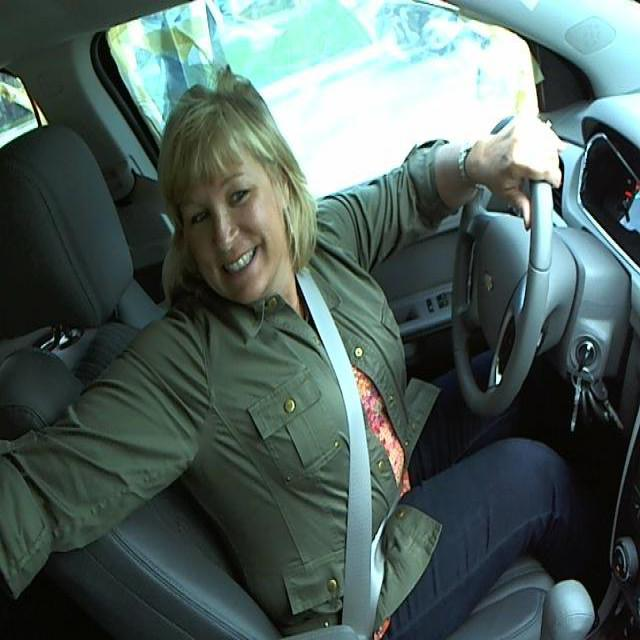seatbelt: (282, 276, 387, 627)
